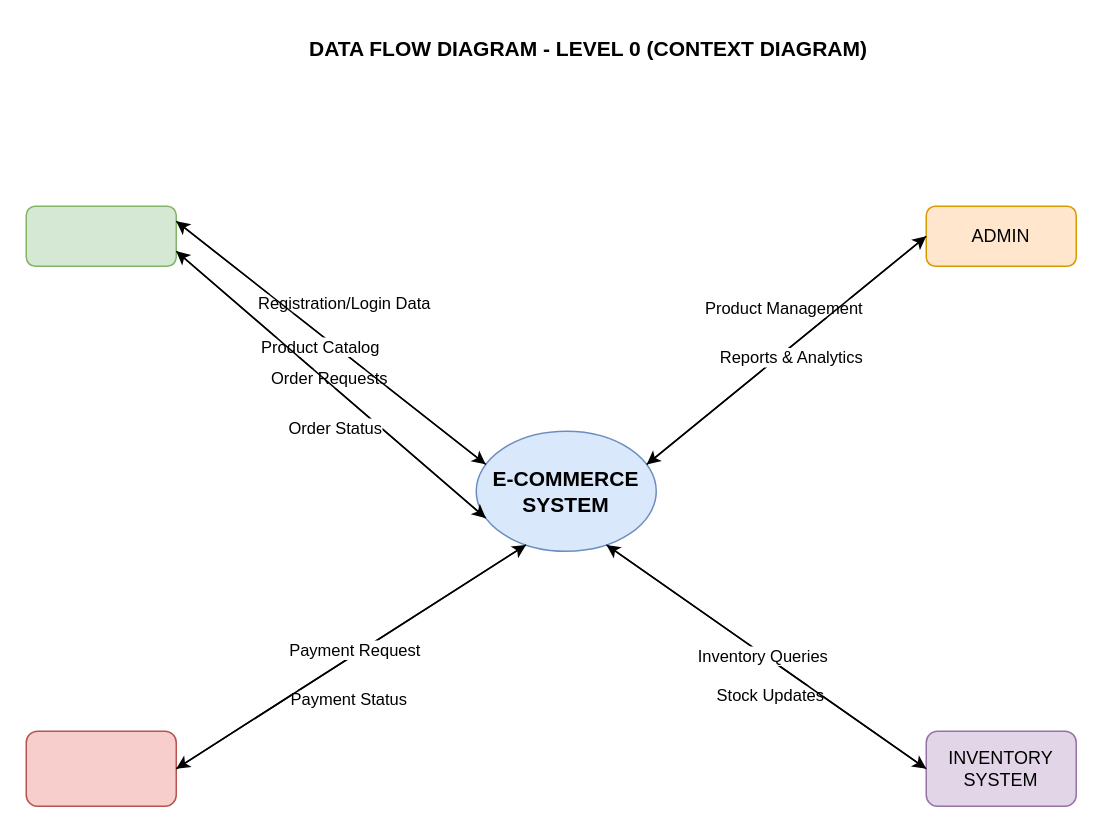
Image size: 1103x833. Some labels were removed from this diagram. Here are the shapes that lost their labels. From the top down, the centre of each, then its label:
[100,235]: CUSTOMER
[100,768]: PAYMENT GATEWAY
